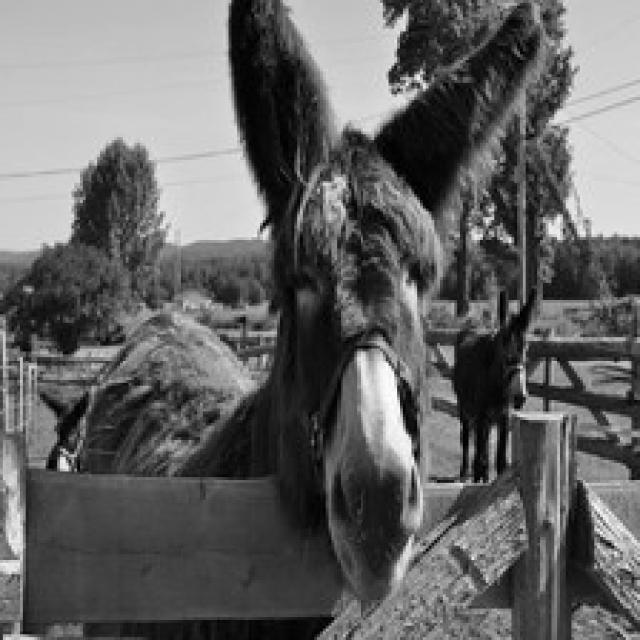Donkey: (37, 0, 549, 637), (37, 309, 260, 477), (449, 283, 540, 483), (37, 386, 92, 471)
